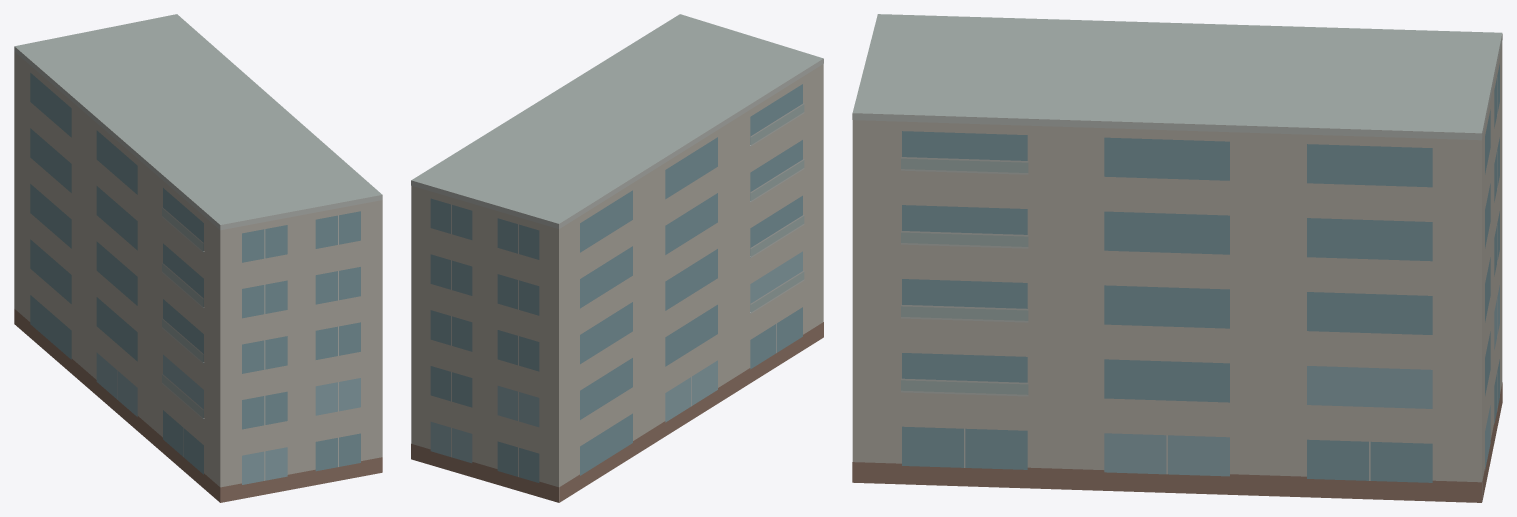
Rendered from survey-upis-32911104.glb.
3 renders of one model, left to right at view 1: azimuth 30°, elevation 25°; view 2: azimuth 150°, elevation 25°; view 3: azimuth 270°, elevation 25°, orthographic. The views are drawn at different scales.
Parts seen in each view (by area): view 1: survey-upis-32911104.tmp; view 2: survey-upis-32911104.tmp; view 3: survey-upis-32911104.tmp.
Part boxes in pixels (x1,y1,x2,y2): survey-upis-32911104.tmp: (14, 14, 382, 502); survey-upis-32911104.tmp: (411, 14, 823, 502); survey-upis-32911104.tmp: (852, 14, 1502, 502).
Size of the model in its own units: 9.01 by 13 by 20.74.
